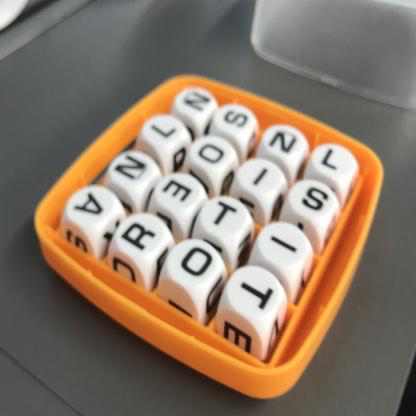a: (69, 185, 114, 230)
e: (161, 170, 198, 213)
i: (262, 220, 305, 272), (245, 157, 278, 193)
l: (144, 110, 185, 150), (314, 141, 355, 181)
n: (115, 150, 155, 189), (270, 122, 302, 163), (179, 84, 214, 120)
o: (176, 238, 218, 293), (195, 136, 231, 173)
r: (121, 210, 167, 261)
s: (296, 179, 333, 225), (220, 103, 254, 137)
t: (231, 266, 283, 329), (208, 197, 241, 237)
